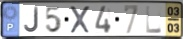4: (94, 5, 113, 35)
5: (45, 6, 64, 34)
7: (123, 4, 141, 36)
J: (23, 6, 40, 34)
L: (145, 5, 163, 35)
X: (68, 5, 92, 35)
